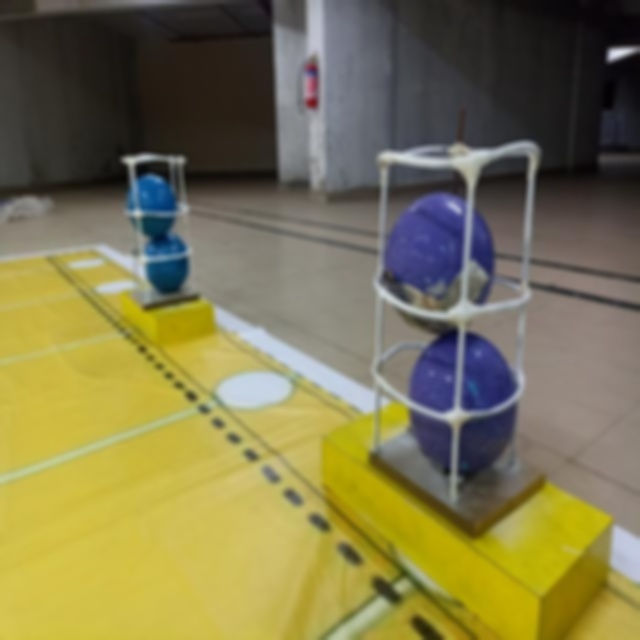blue_ball: (141, 233, 189, 294), (128, 173, 176, 233)
purple_ball: (381, 192, 494, 331), (410, 326, 514, 477)
silo: (370, 107, 540, 506), (120, 153, 199, 299)
